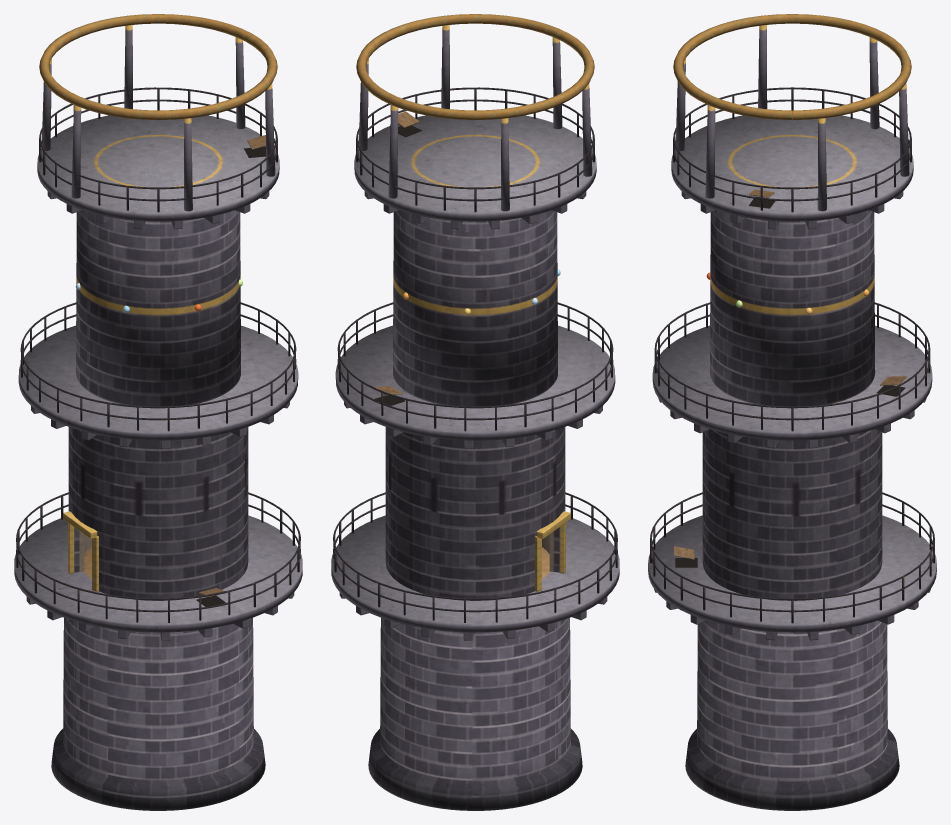
Rendered from great_lighthouse.glb.
The picture shows the model from 3 angles, left to right: view 1: azimuth 30°, elevation 25°; view 2: azimuth 150°, elevation 25°; view 3: azimuth 270°, elevation 25°; orthographic projection.
Parts seen in each view (by area): view 1: GreatLighthouse; view 2: GreatLighthouse; view 3: GreatLighthouse.
Boxes of the visible parts, x1,y1,x2,y2 form: GreatLighthouse: (14,14,302,810); GreatLighthouse: (331,14,619,810); GreatLighthouse: (648,14,936,810).
Size of the model in its own units: 12.4 by 33.32 by 12.4.
1 material, 1 textured.
